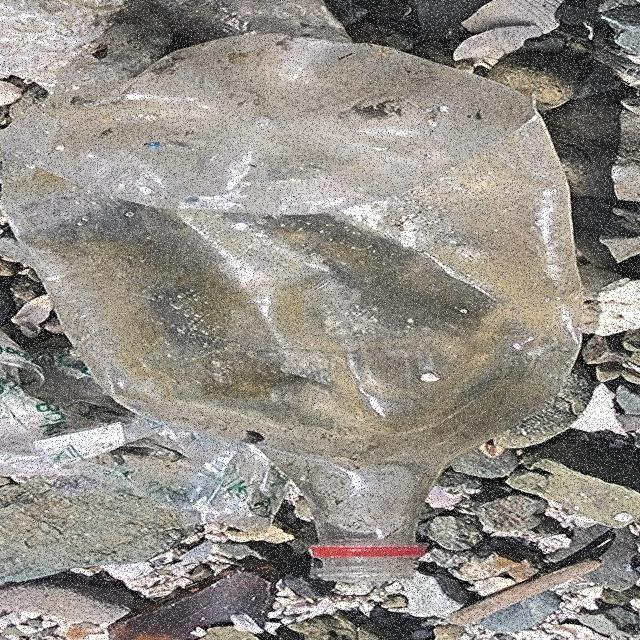plastic_waste: (1, 33, 589, 585)
